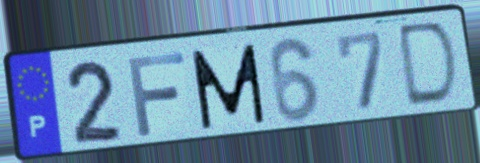2: (64, 58, 126, 148)
6: (265, 34, 326, 125)
7: (331, 28, 387, 114)
D: (397, 18, 462, 111)
F: (124, 49, 189, 139)
M: (187, 41, 269, 133)
